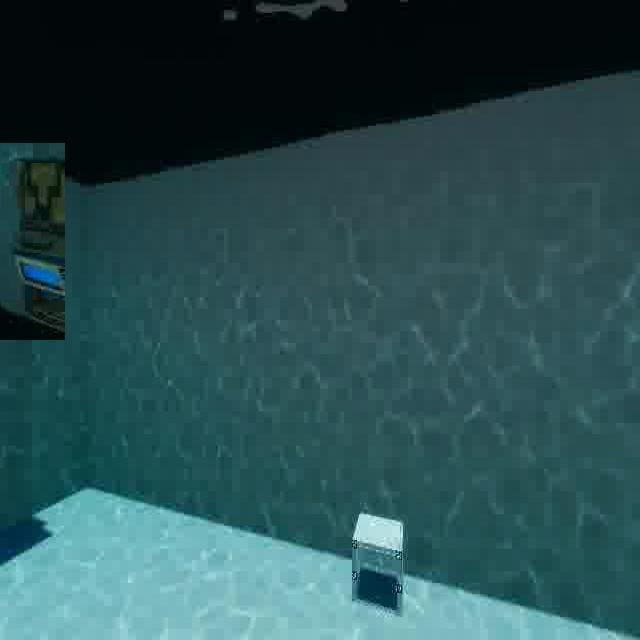Control Panel: (0, 143, 65, 340)
Docking Station: (343, 508, 409, 623)
